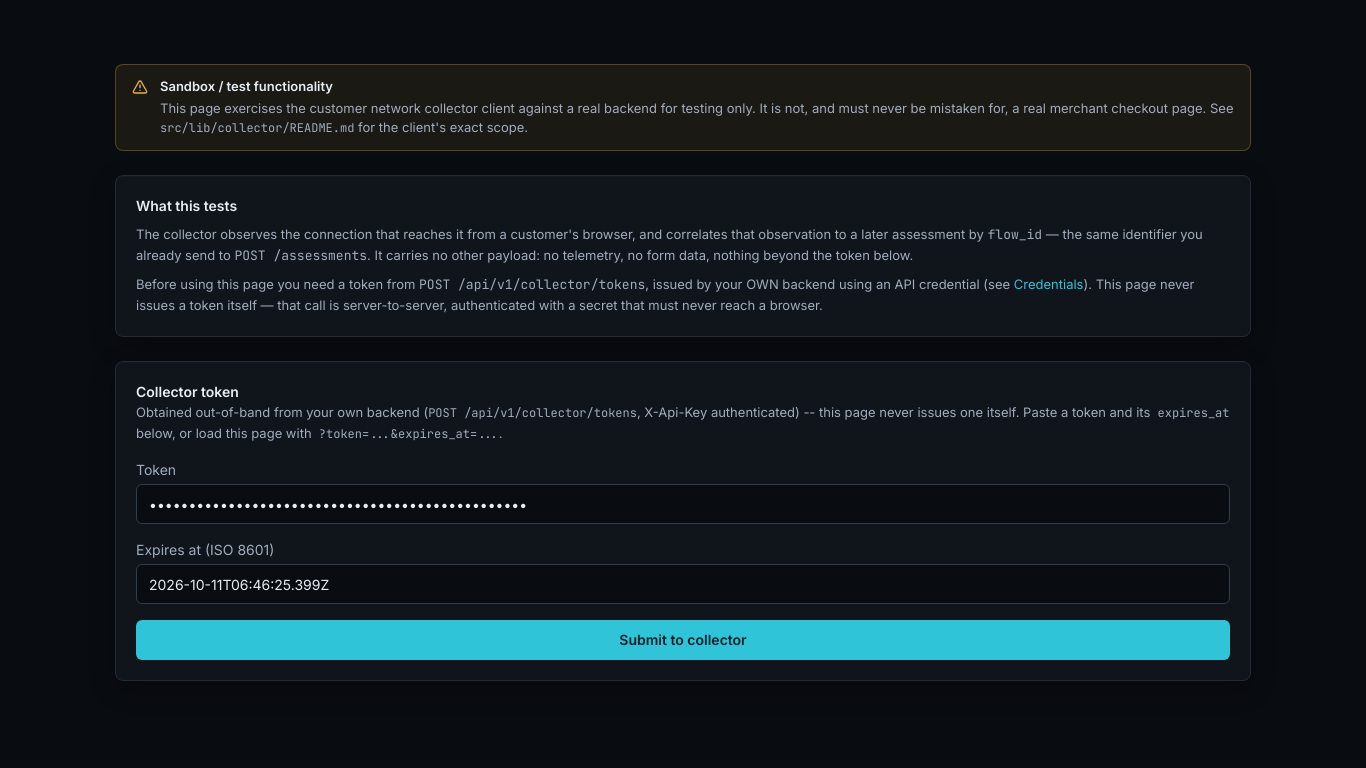
Collector sandbox demo page (Wave 30 Phase 12/18) › Wave 32B: a network failure shows a human-readable title, never a raw exception
The width and height of the screenshot is (1366, 768).
What coordinates should you click on to do the following:
click the button with test id "collector-submit"
I would click on:
 (683, 640)
Its box is [136,620,1230,660].
(page scrolled)
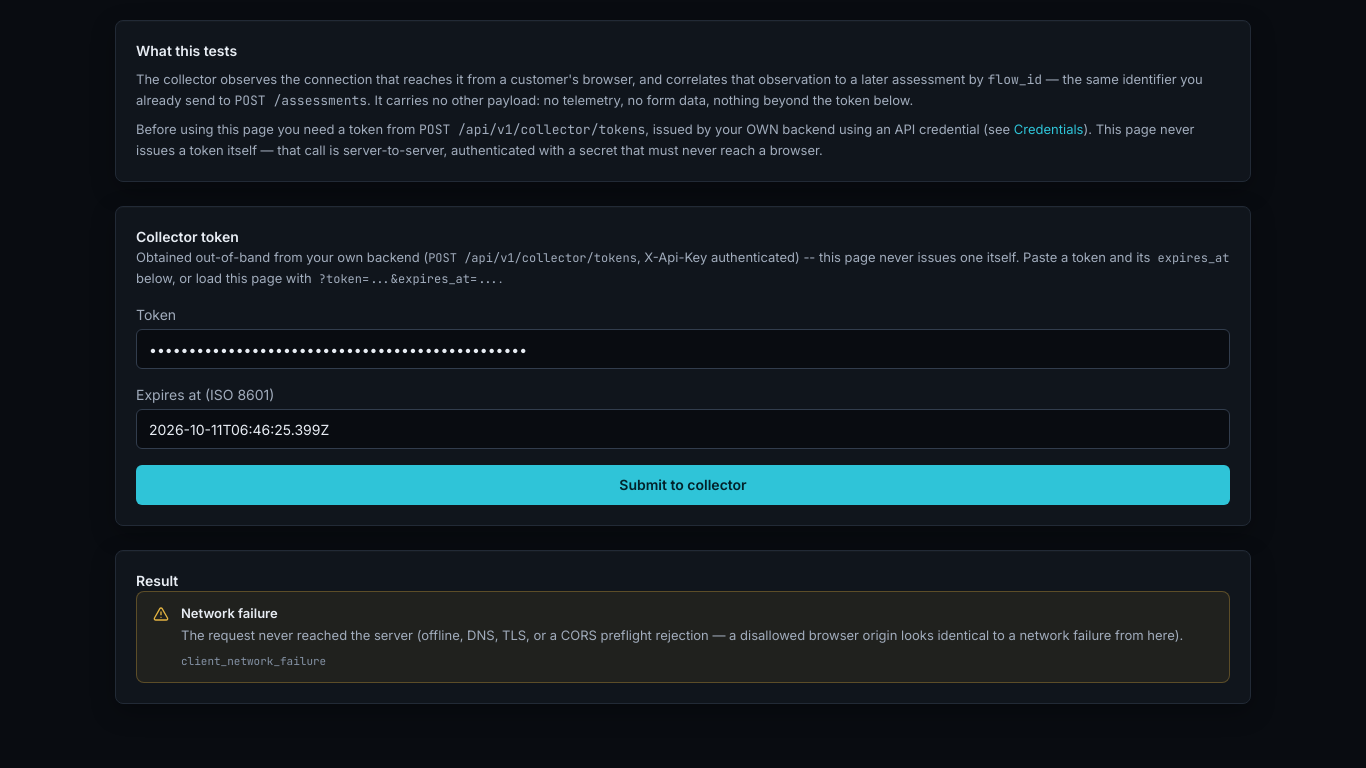
Now the text "Network failure" is shown, box [181,605,278,621]
